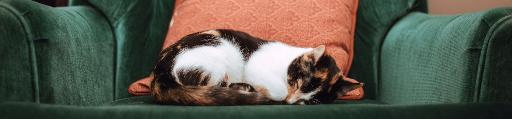cat_sleeping: (150, 29, 363, 106)
